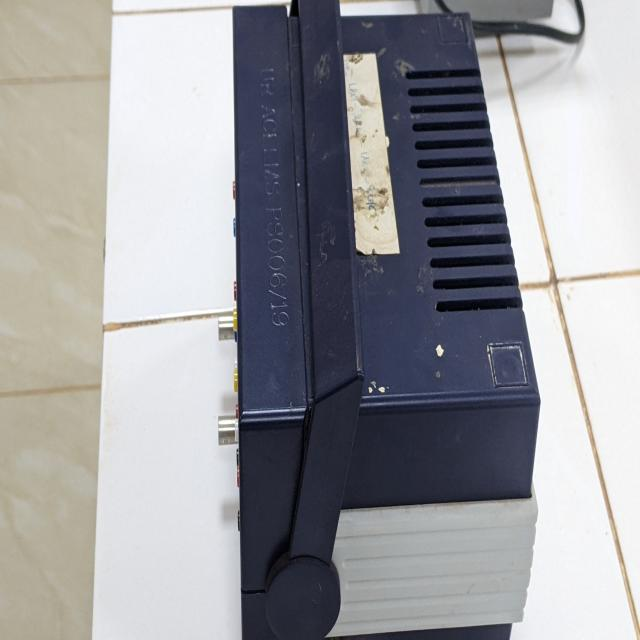Power Supply of Speed of Light Demo: (206, 17, 546, 629)
